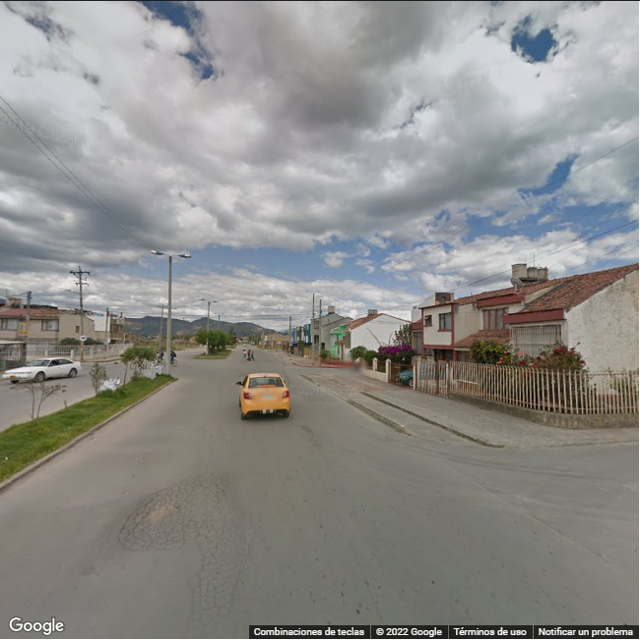D20: (113, 472, 249, 550), (195, 565, 242, 629)
